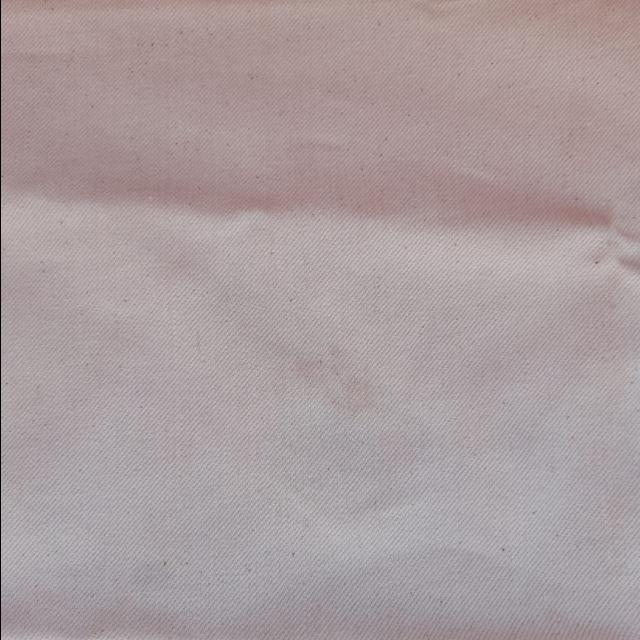taaaches: (315, 342, 389, 418)
